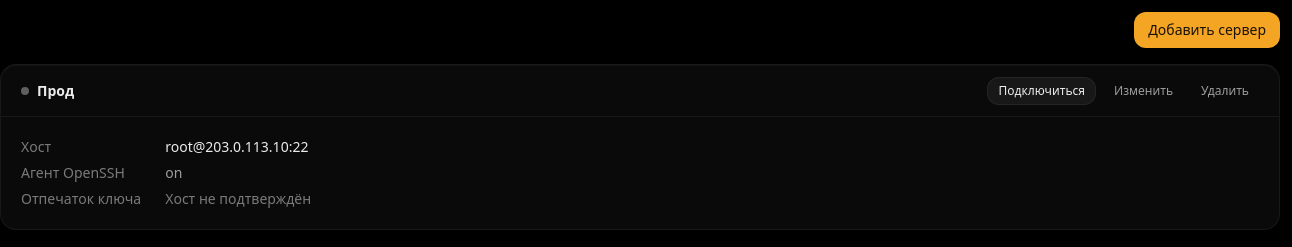
it: удаление › первое нажатие не удаляет, а спрашивает с именем
Click the button "Удалить" at (1225, 90), box 1191,76 -> 1259,104
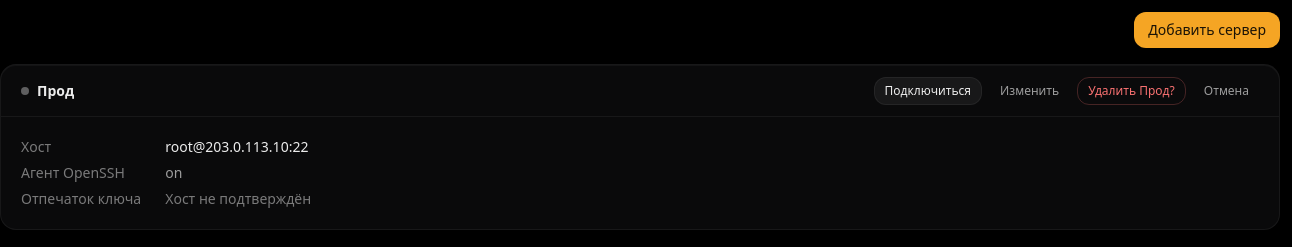
Check: the button "Удалить Прод?" is shown, box 1077,76 -> 1186,104
